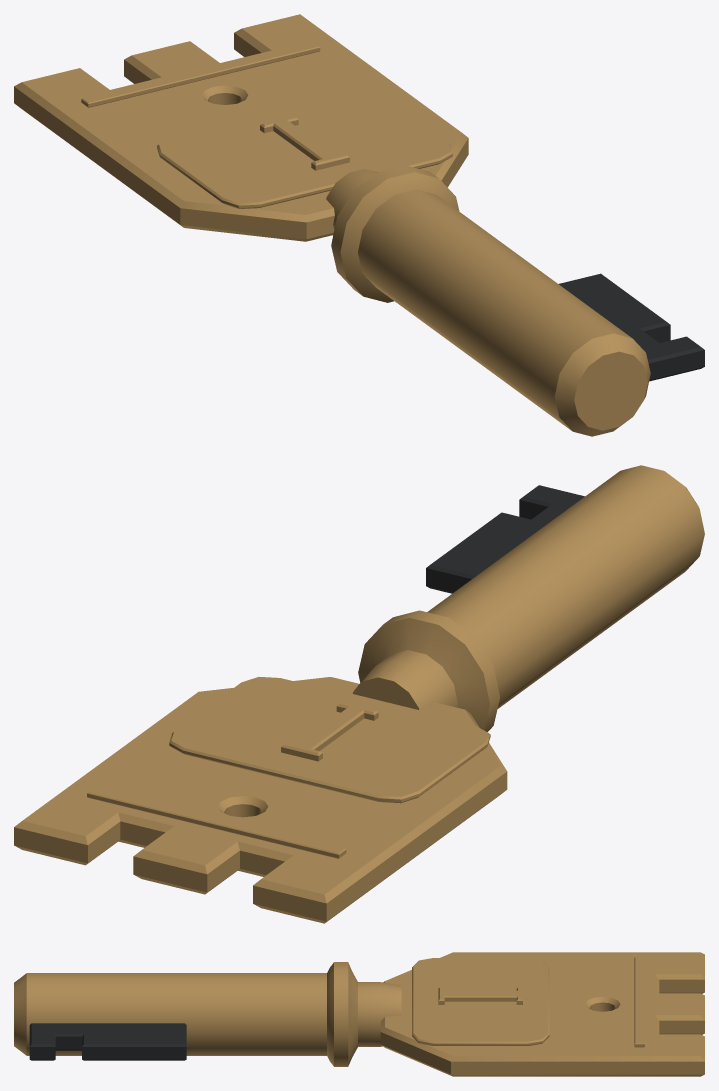
Rendered from tower_key_1.glb.
The picture shows the model from 3 angles, top to bottom: view 1: azimuth 30°, elevation 25°; view 2: azimuth 150°, elevation 25°; view 3: azimuth 270°, elevation 25°; orthographic projection. The views are drawn at different scales.
Visible parts, largest first — view 1: tower_key_1, key_bit; view 2: tower_key_1, key_bit; view 3: tower_key_1, key_bit.
Part boxes in pixels (x1=…): tower_key_1: x1=14, y1=14, x2=650, y2=436; key_bit: x1=558, y1=273, x2=704, y2=381; tower_key_1: x1=14, y1=465, x2=704, y2=923; key_bit: x1=426, y1=485, x2=584, y2=593; tower_key_1: x1=14, y1=952, x2=704, y2=1076; key_bit: x1=29, y1=1023, x2=186, y2=1060.
Size of the model in its own units: 0.036 by 0.0148 by 0.098.
